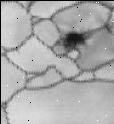good_void: (62, 31, 86, 49)
